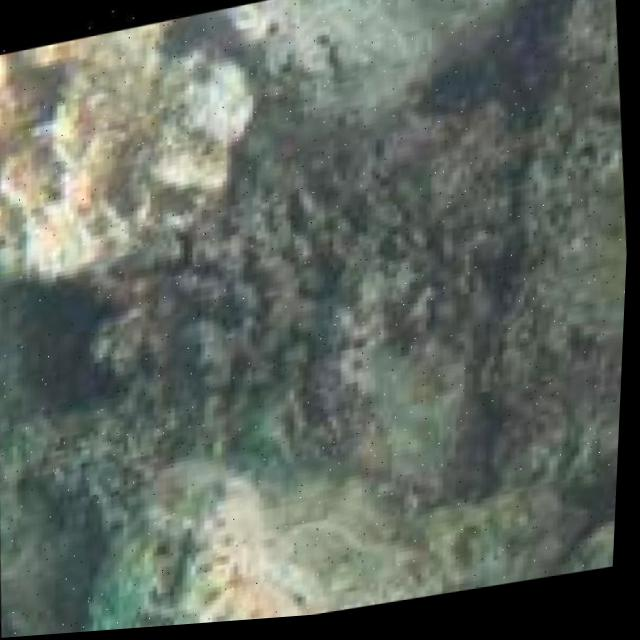Dead Coral: (72, 194, 419, 469)
